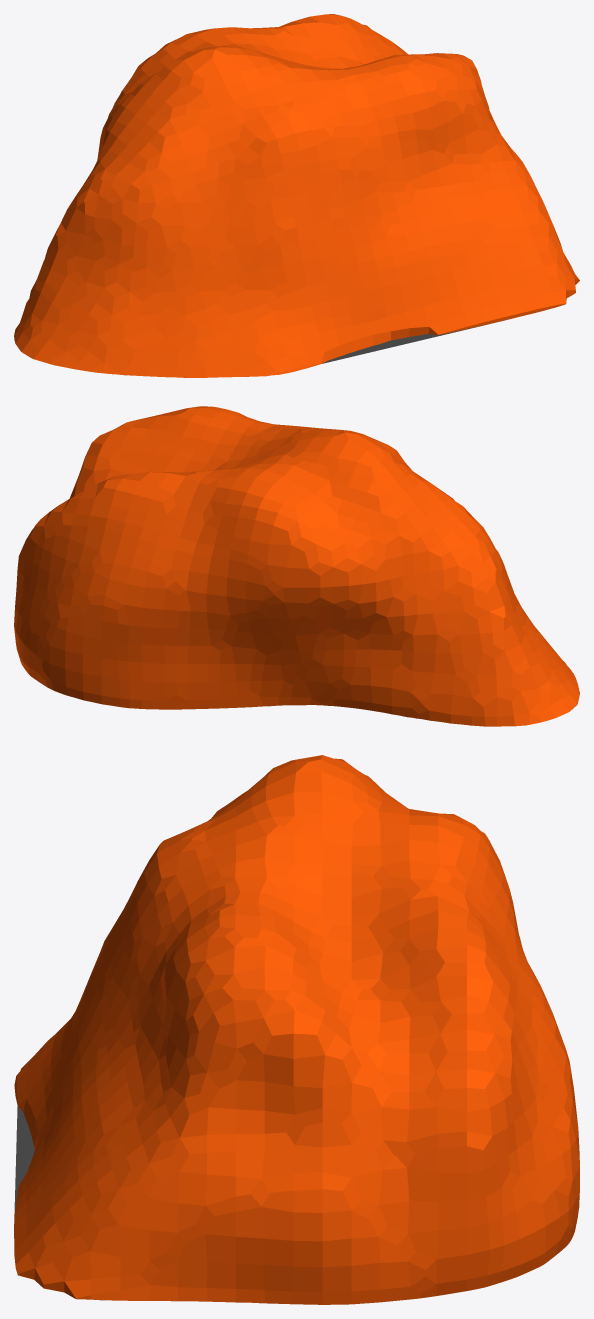
3 views of the same model, one above another, from view 1: azimuth 30°, elevation 25°; view 2: azimuth 150°, elevation 25°; view 3: azimuth 270°, elevation 25° (orthographic). The views are drawn at different scales.
Parts seen in each view (by area): view 1: 19.015; view 2: 19.015; view 3: 19.015.
Boxes of the visible parts, x1,y1,x2,y2 form: 19.015: [14, 14, 579, 377]; 19.015: [14, 406, 579, 726]; 19.015: [14, 755, 579, 1304].
Bounding box in the file's own units: 14.26 × 6.5 × 9.79.
